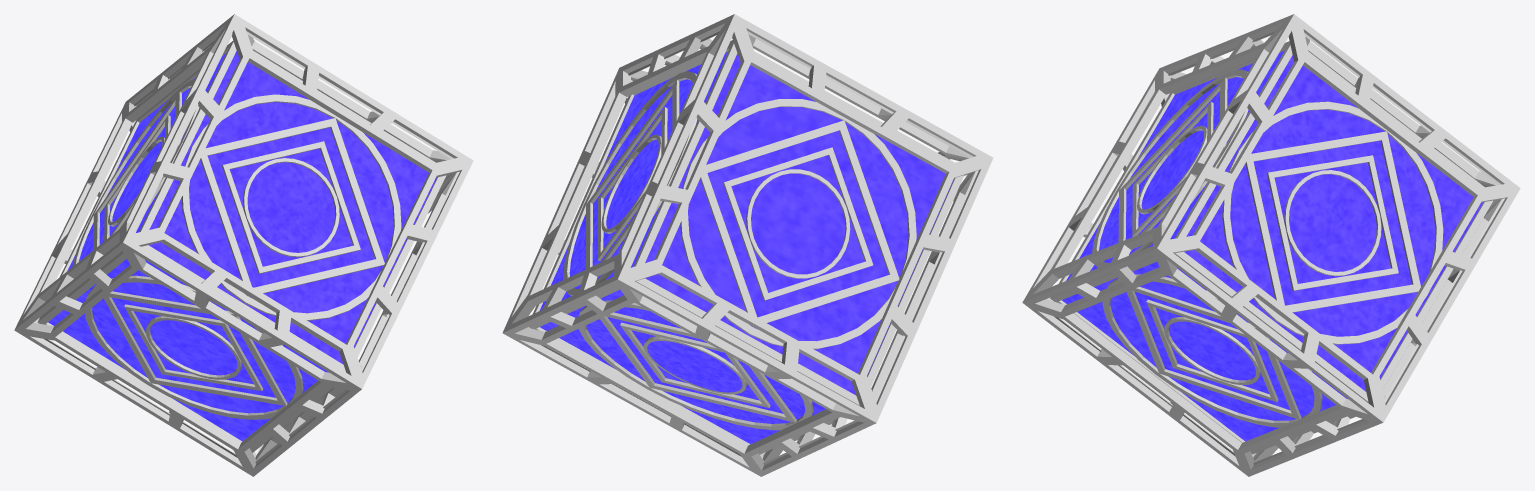
File: cubo_de_energia.glb
The picture shows the model from 3 angles, left to right: view 1: azimuth 30°, elevation 25°; view 2: azimuth 150°, elevation 25°; view 3: azimuth 270°, elevation 25°; orthographic projection. The views are drawn at different scales.
Parts seen in each view (by area): view 1: Cube, Cube.001; view 2: Cube, Cube.001; view 3: Cube, Cube.001.
Boxes of the visible parts, <box> form: Cube: <box>37,41,446,452</box>; Cube.001: <box>14,14,473,476</box>; Cube: <box>529,41,964,454</box>; Cube.001: <box>502,14,993,476</box>; Cube: <box>1050,41,1492,454</box>; Cube.001: <box>1022,14,1520,476</box>.
Size of what is drawn, in the model's own units: 4.07 by 4.96 by 4.82.
